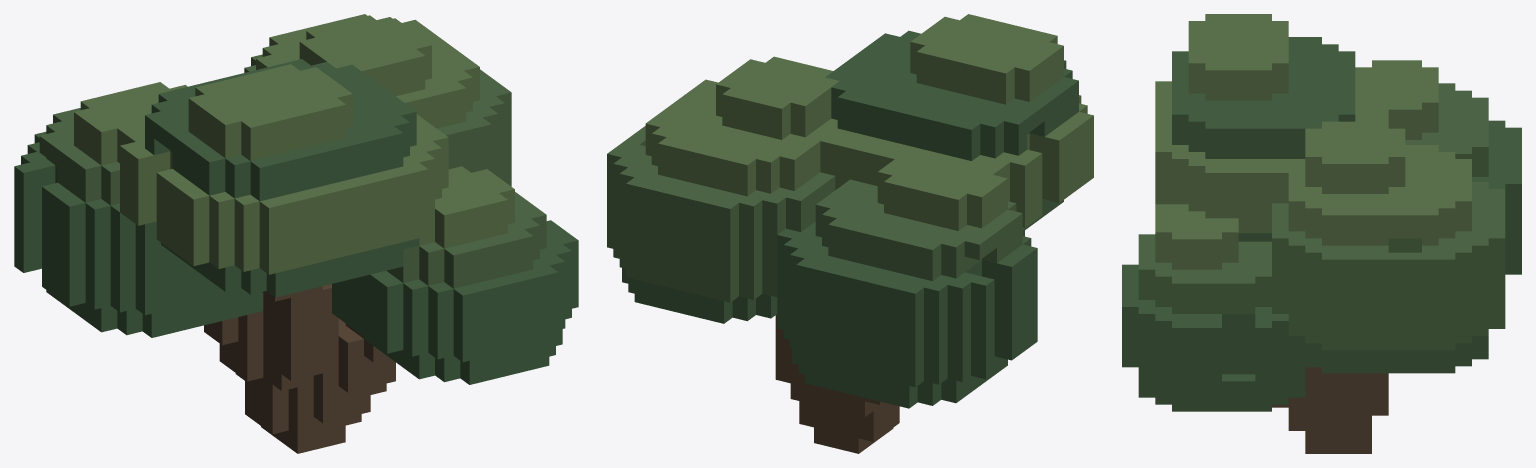
Rendered from blueberry_summer_picked.glb.
3 renders of one model, left to right at view 1: azimuth 30°, elevation 25°; view 2: azimuth 150°, elevation 25°; view 3: azimuth 270°, elevation 25°, orthographic. The views are drawn at different scales.
Visible parts, largest first — view 1: VoxelVisual; view 2: VoxelVisual; view 3: VoxelVisual.
Part boxes in pixels (box(x1,y1,x2,y2)): VoxelVisual: box(14, 14, 578, 453); VoxelVisual: box(607, 14, 1093, 453); VoxelVisual: box(1122, 14, 1521, 453).
Size of what is drawn, in the model's own units: 1.62 by 1.5 by 1.5.
